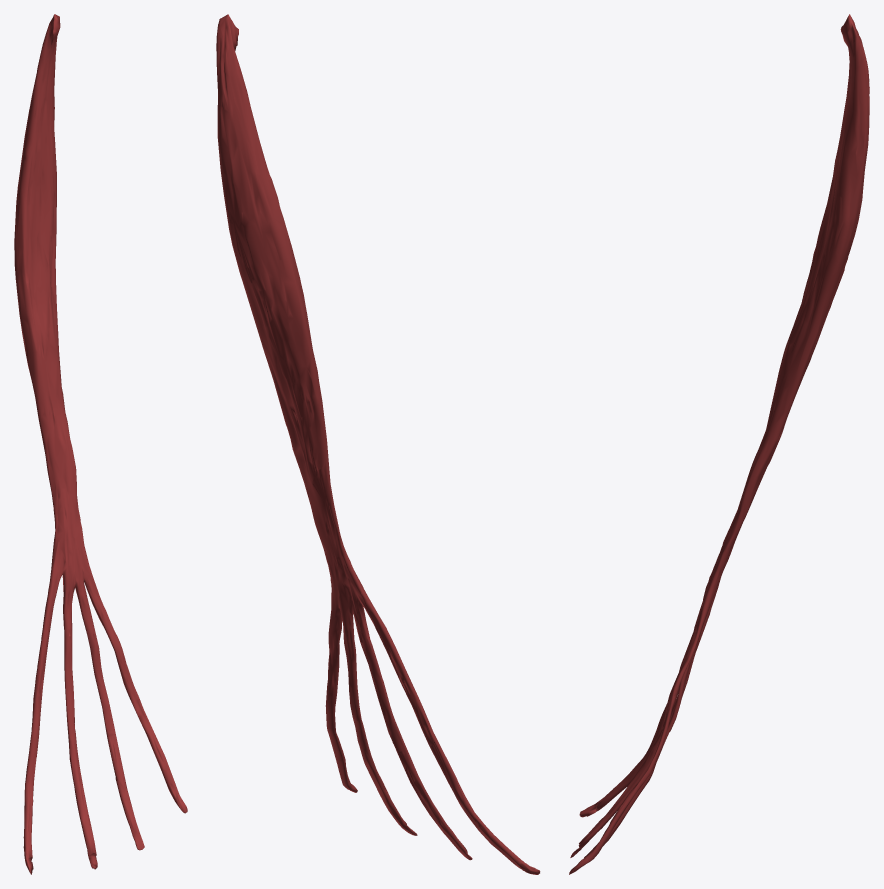
Rendered from extensor-digitorum-r.glb.
3 renders of one model, left to right at view 1: azimuth 30°, elevation 25°; view 2: azimuth 150°, elevation 25°; view 3: azimuth 270°, elevation 25°, orthographic. The views are drawn at different scales.
Parts seen in each view (by area): view 1: Extensor digitorum.r; view 2: Extensor digitorum.r; view 3: Extensor digitorum.r.
Boxes of the visible parts, x1=… form: Extensor digitorum.r: x1=14, y1=14, x2=187, y2=874; Extensor digitorum.r: x1=216, y1=14, x2=540, y2=874; Extensor digitorum.r: x1=569, y1=14, x2=869, y2=874.
Bounding box in the file's own units: 0.0853 × 0.3946 × 0.121.
